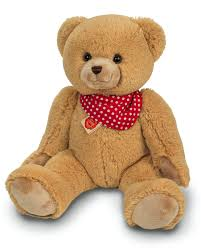teddy: (4, 10, 201, 238)
